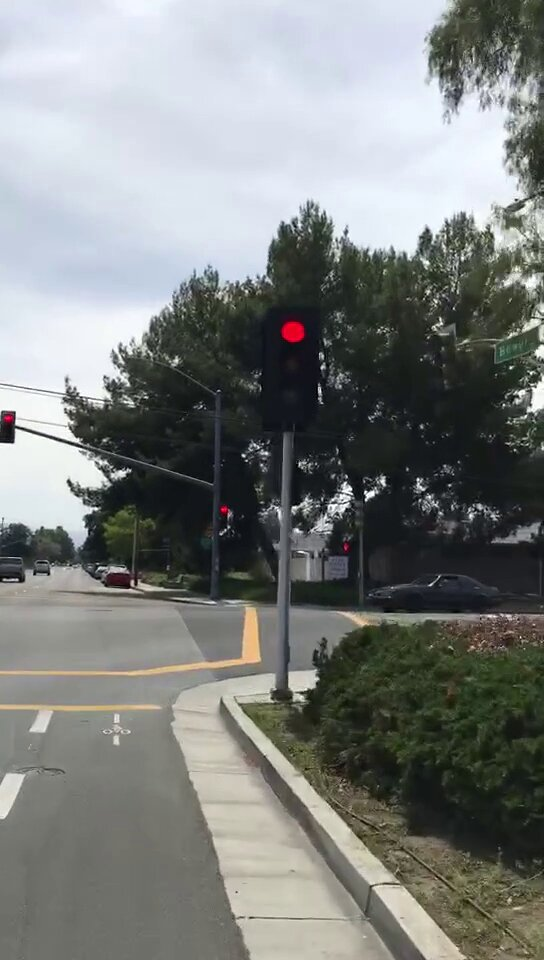red_light: (269, 311, 314, 427), (2, 409, 15, 442), (217, 502, 230, 527)
